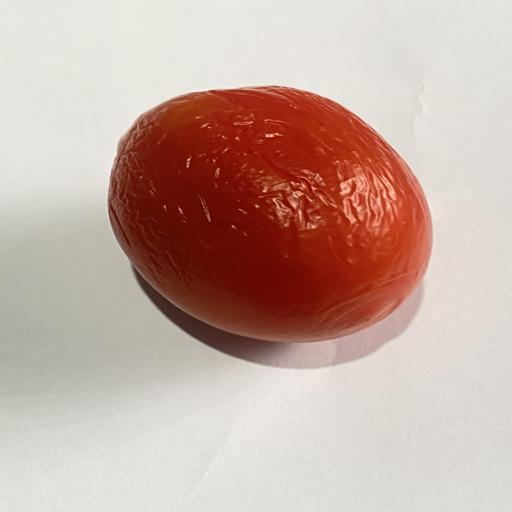spoiled: (108, 86, 432, 342), (109, 86, 432, 342)
